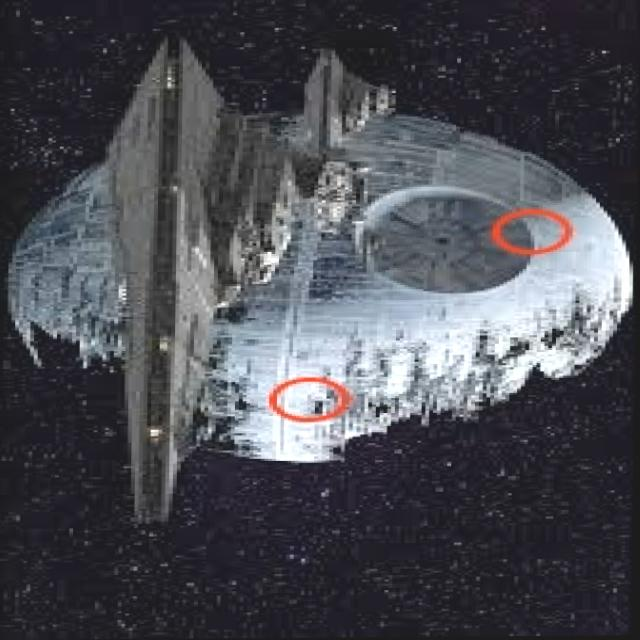deathStar: (6, 114, 634, 465)
